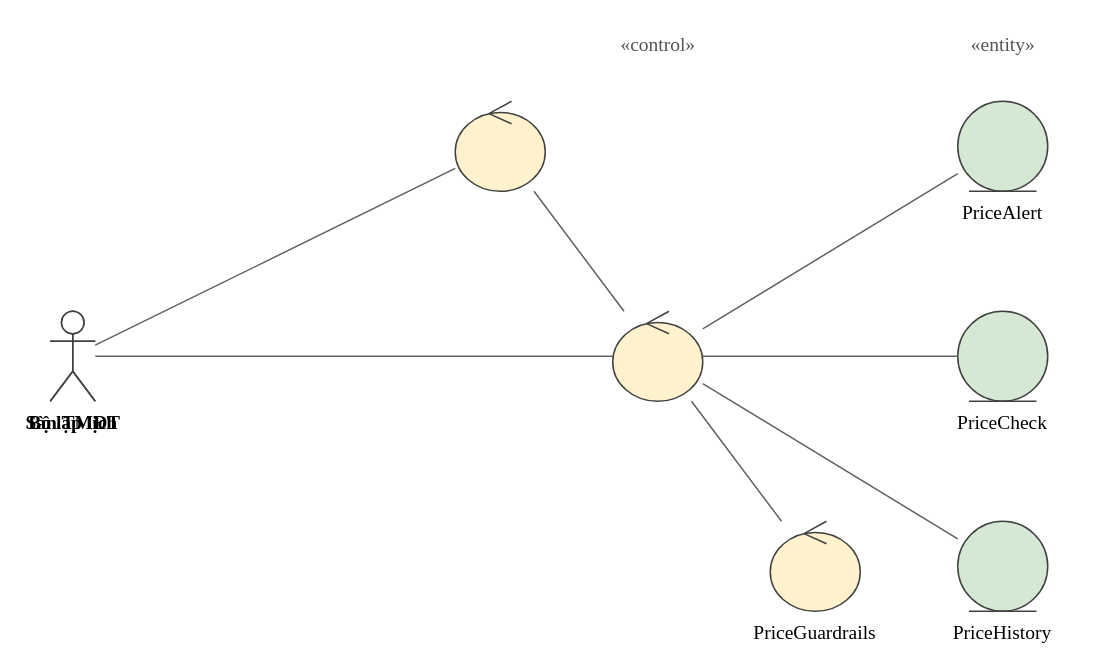
Image size: 1119x671. Some labels were removed from this diagram. Here are the shapes that lost their labels. From the top down, the centre of each, then its label:
At pixel 499 145: "ProductEnricher".
At pixel 657 355: "PriceWatcher".
